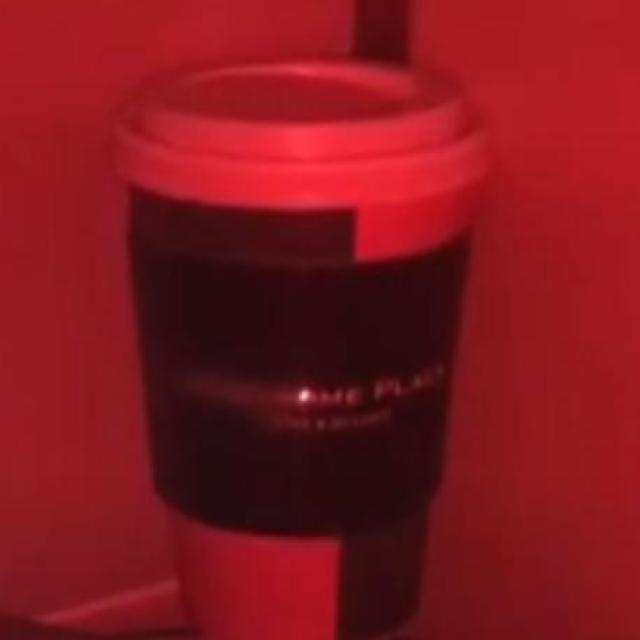hidden camera: (286, 371, 321, 414)
